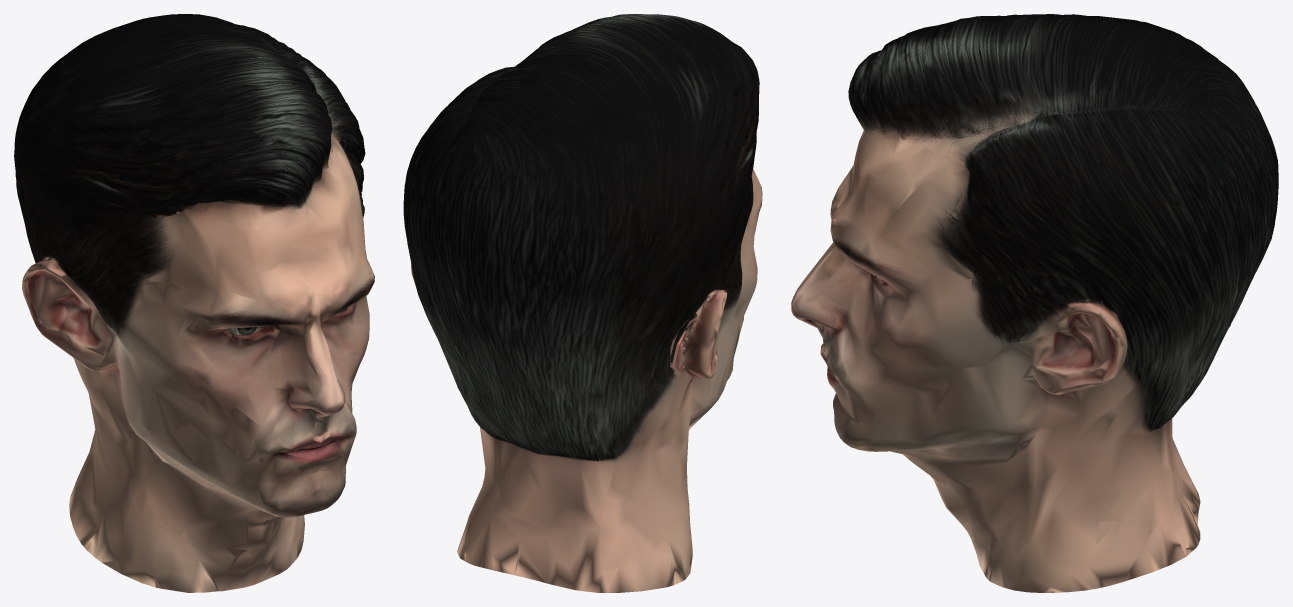
The model's file is Head.fbx.
3 renders of one model, left to right at view 1: azimuth 30°, elevation 25°; view 2: azimuth 150°, elevation 25°; view 3: azimuth 270°, elevation 25°, orthographic. The views are drawn at different scales.
Visible parts, largest first — view 1: mesh_node; view 2: mesh_node; view 3: mesh_node.
Part boxes in pixels (box(x1,y1,x2,y2)): mesh_node: box(14, 14, 374, 592); mesh_node: box(403, 14, 762, 592); mesh_node: box(791, 14, 1278, 592).
Size of the model in its own units: 117 by 190 by 158.
1 material, 1 textured.
